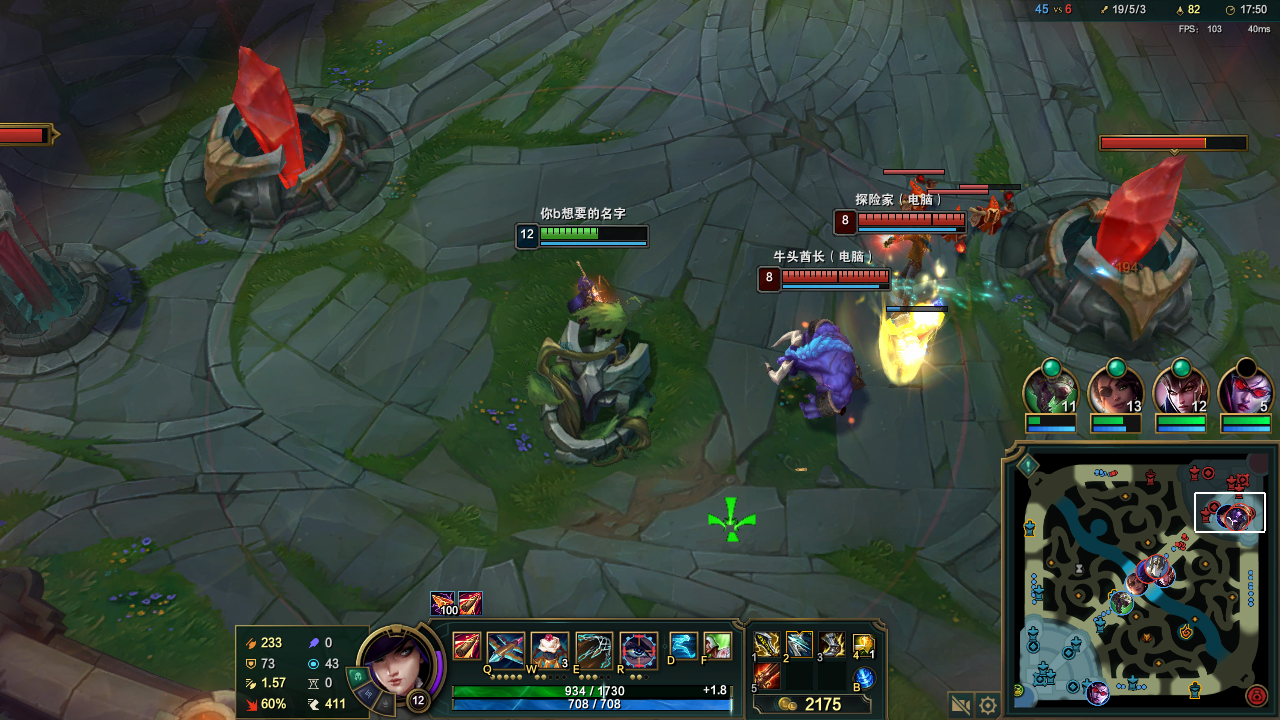DFSJ: (1039, 137, 1232, 332)
DFXB: (977, 199, 1007, 230), (905, 176, 928, 198), (947, 235, 971, 255)
DFYX: (854, 215, 965, 229), (779, 273, 879, 284)
KF: (787, 635, 808, 647)
